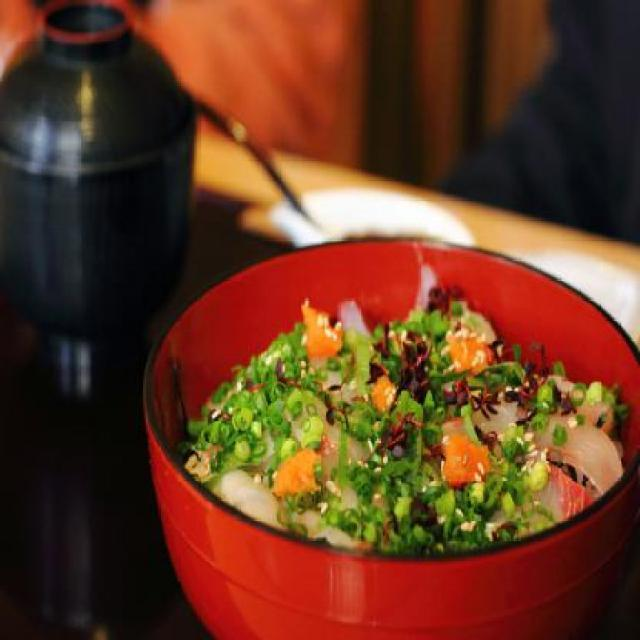Salad: (174, 273, 636, 544)
